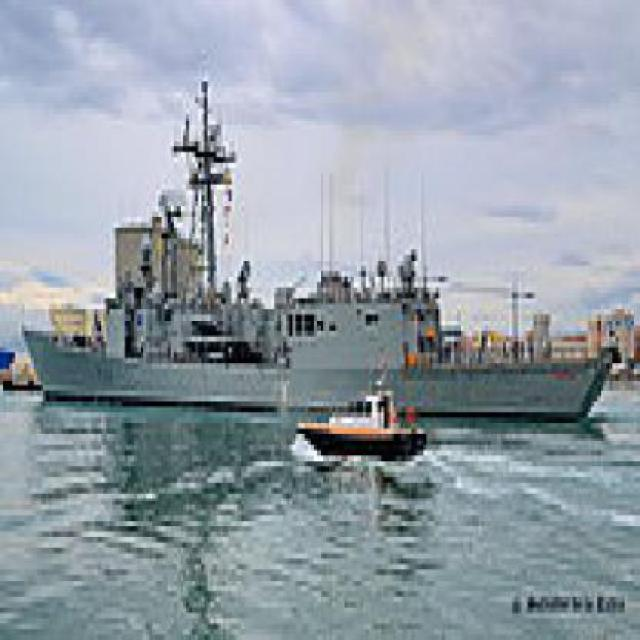warship2: (19, 104, 617, 446)
